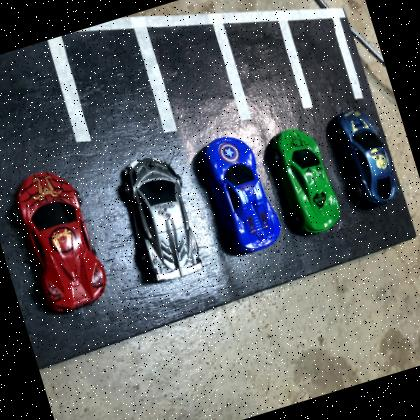Car: (9, 162, 114, 320), (112, 148, 206, 288), (200, 127, 288, 258), (270, 119, 346, 239), (336, 101, 404, 212)
